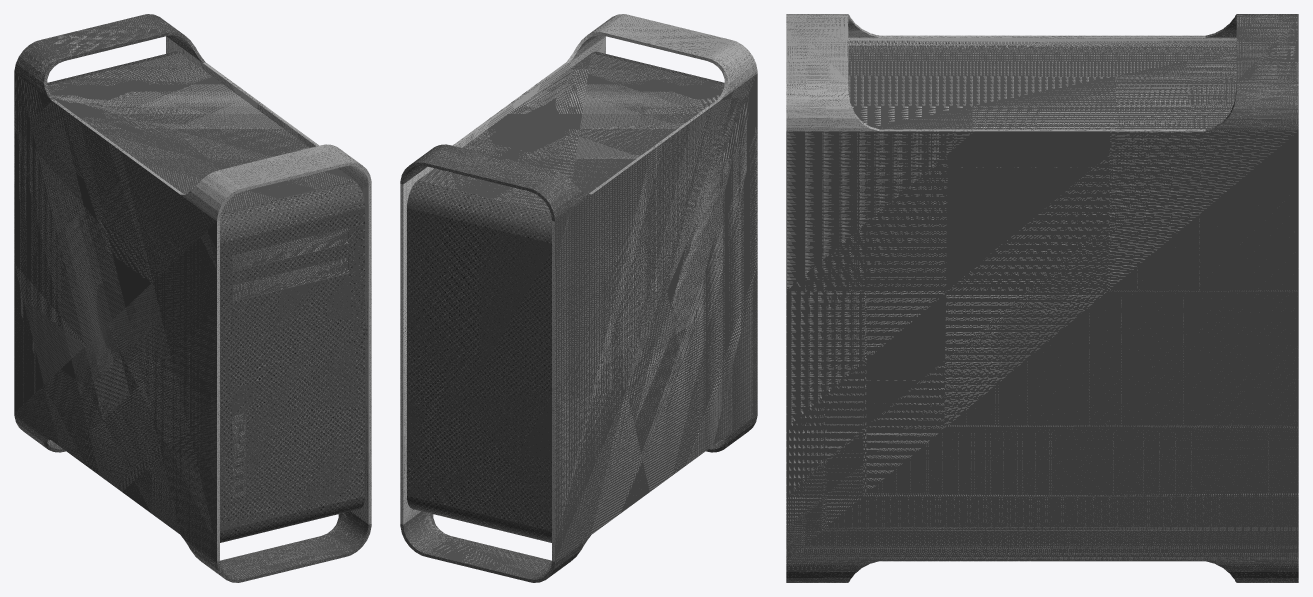
Rendered from AppleMacPro.dae.
The picture shows the model from 3 angles, left to right: view 1: azimuth 30°, elevation 25°; view 2: azimuth 150°, elevation 25°; view 3: azimuth 270°, elevation 25°; orthographic projection. The views are drawn at different scales.
Visible parts, largest first — view 1: Group12, Model, Group4, Group6, Group9, Group1, Group11; view 2: Group12, Model, Group6, Group4, Group11, Group1, Group9; view 3: Group1, Model, Group4, Group6, Group12, Group9, Group11.
Part boxes in pixels (bbox=[...]): Group12: bbox=[14, 73, 219, 561]; Model: bbox=[47, 51, 364, 542]; Group4: bbox=[14, 14, 205, 99]; Group6: bbox=[180, 144, 371, 221]; Group9: bbox=[181, 511, 371, 582]; Group1: bbox=[166, 36, 371, 524]; Group11: bbox=[14, 413, 65, 452]; Group12: bbox=[552, 73, 757, 561]; Model: bbox=[407, 51, 724, 542]; Group6: bbox=[566, 14, 757, 99]; Group4: bbox=[400, 144, 591, 221]; Group11: bbox=[400, 511, 590, 582]; Group1: bbox=[400, 36, 605, 524]; Group9: bbox=[706, 413, 757, 452]; Group1: bbox=[786, 129, 1298, 561]; Model: bbox=[848, 45, 1236, 129]; Group4: bbox=[1205, 14, 1298, 131]; Group6: bbox=[786, 14, 879, 131]; Group12: bbox=[848, 35, 1236, 45]; Group9: bbox=[786, 561, 878, 582]; Group11: bbox=[1206, 561, 1298, 582].
Size of the model in its own units: 204 by 463 by 496.
6 materials, 4 textured.
